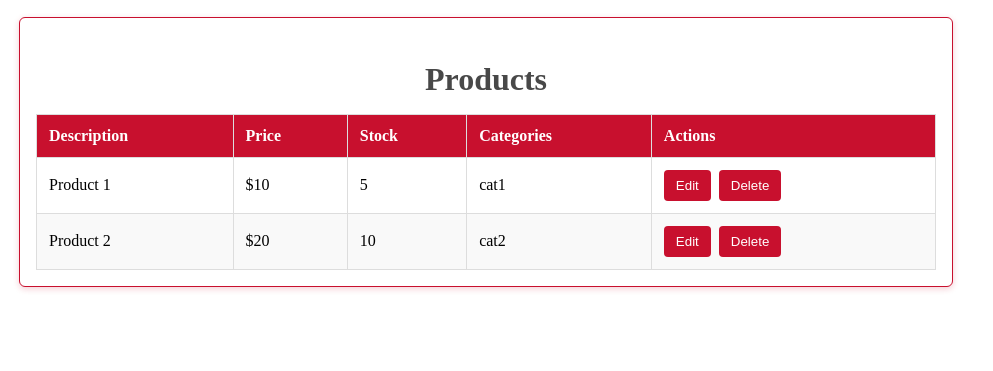
Test: ProductList Component › should cancels edit mode by clicking Cancel
The width and height of the screenshot is (993, 371).
Click the button "Edit" in the row of "Product 1".
click(687, 185)  # box [664,170,711,200]
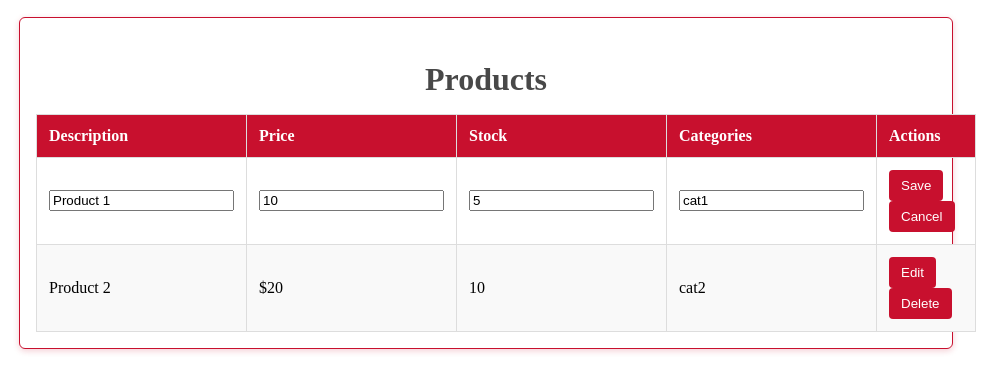
Expected: the 1st field showing "Product 1" is shown, [49,190,234,211]
Click the button "Cancel".
click(922, 216)  # box [889,200,954,232]
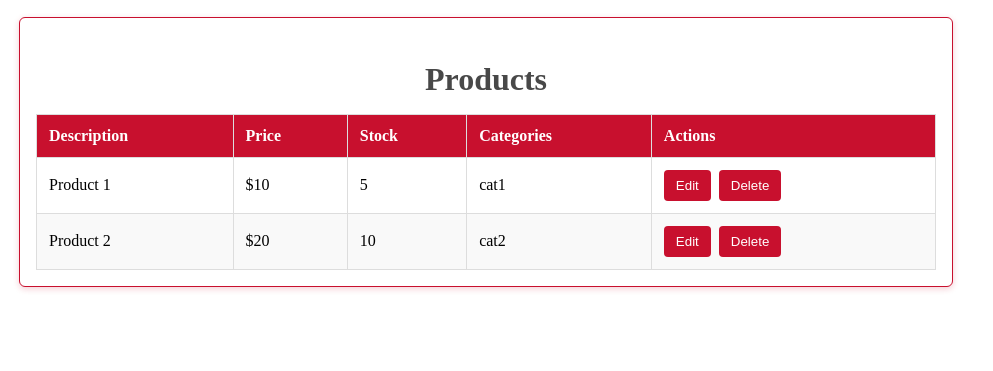
Expected: the text "Product 1" is shown, [36,157,233,213]
